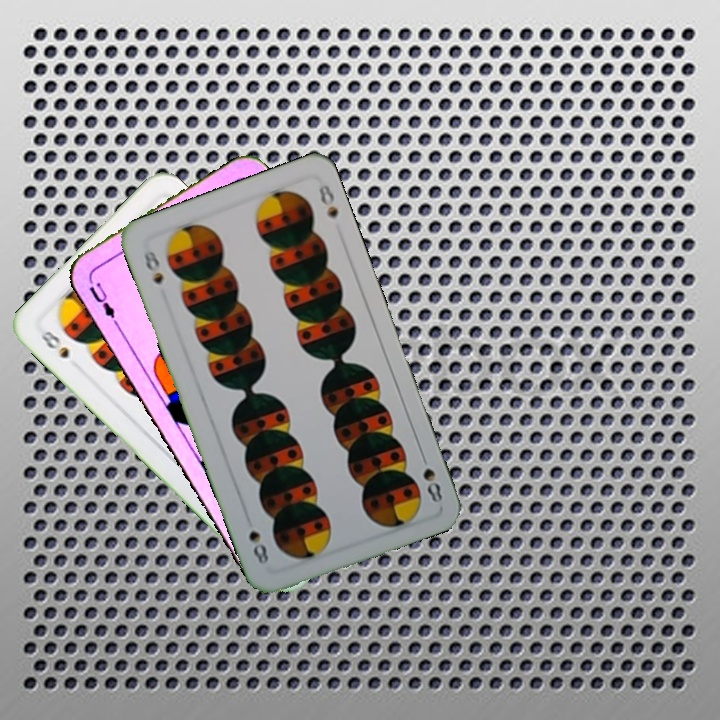EU: (85, 278, 118, 321)
S8: (416, 448, 446, 506), (36, 327, 72, 362), (139, 247, 166, 288)
